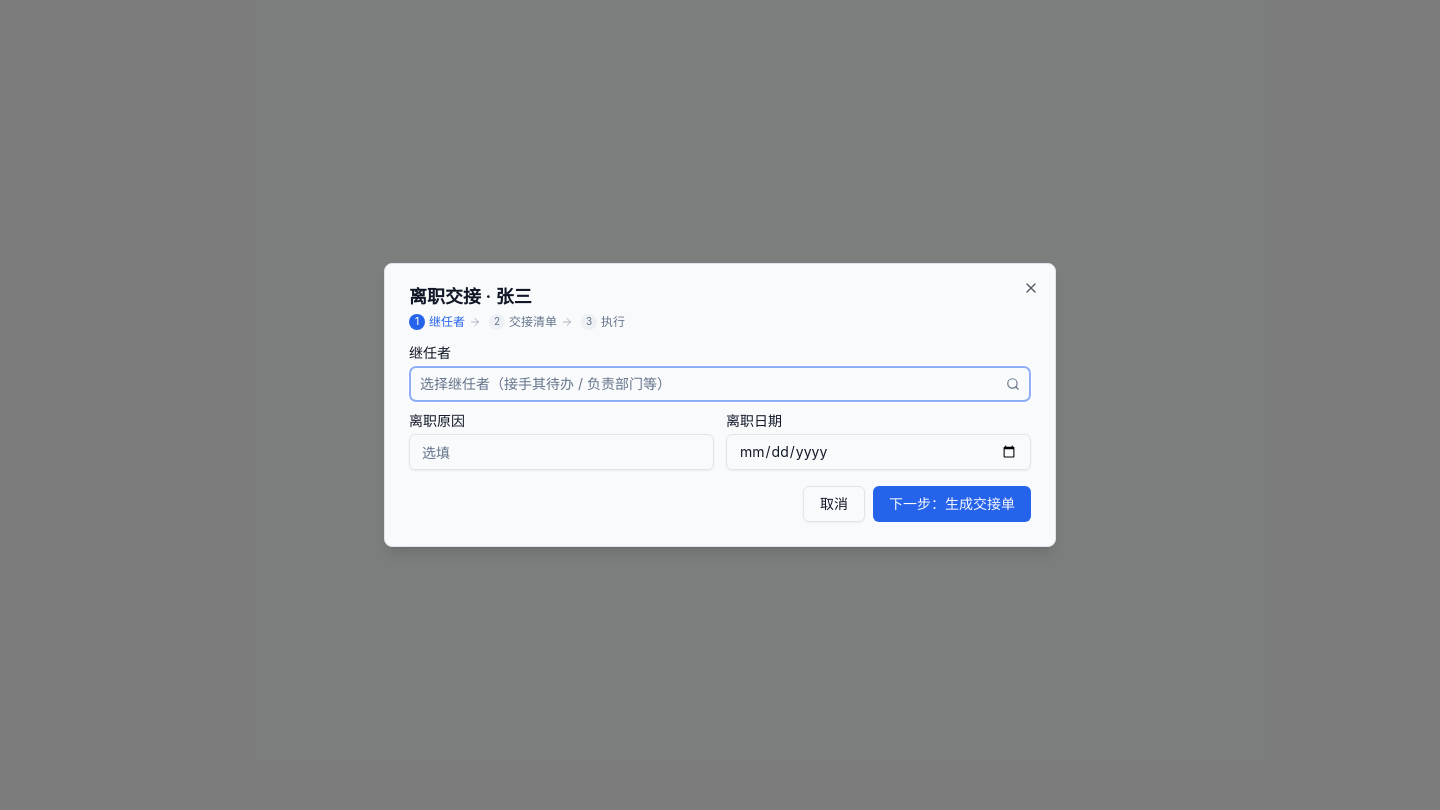
Scenario: ResignWizard（DP2） › offline → 生成交接单 → 演示清单（未知 itemType 兜底）→ 执行成功，不白屏
The width and height of the screenshot is (1440, 810).
Check: the heading "离职交接 · 张三" is shown, box [409, 286, 532, 307]
Note: 步1 → 生成交接单（继任者选填，离线直接放行）
Click the button "下一步：生成交接单" at [952, 504], box [873, 486, 1031, 522]
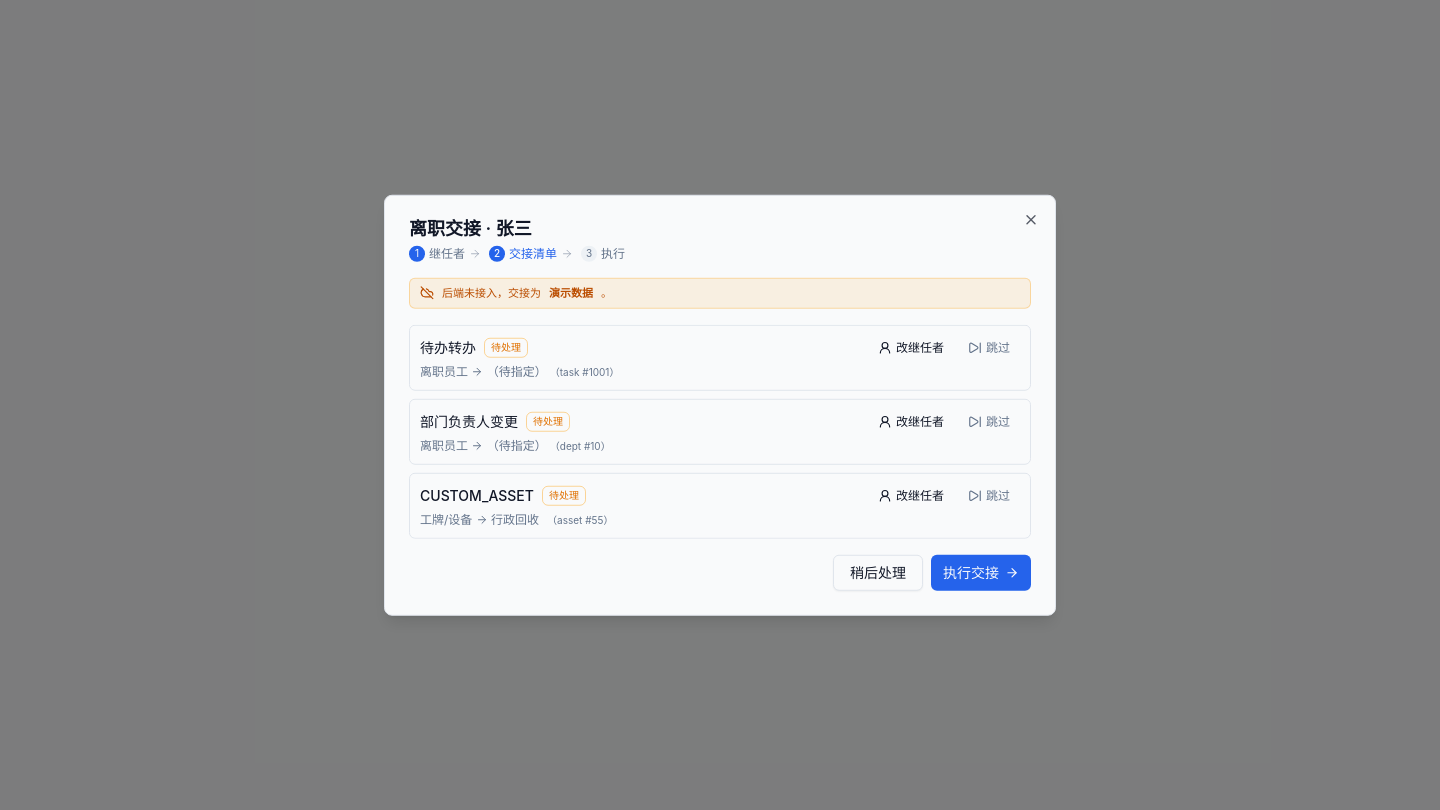
Check: the text "待办转办" is shown, box [420, 337, 476, 357]
Check: the text "部门负责人变更" is shown, box [420, 411, 518, 431]
Check: the text "CUSTOM_ASSET" is shown, box [420, 485, 534, 505]
Note: 步3：执行 → 全部 PENDING→DONE，交接单完成
Click the button "执行交接" at [981, 572], box [931, 554, 1031, 590]
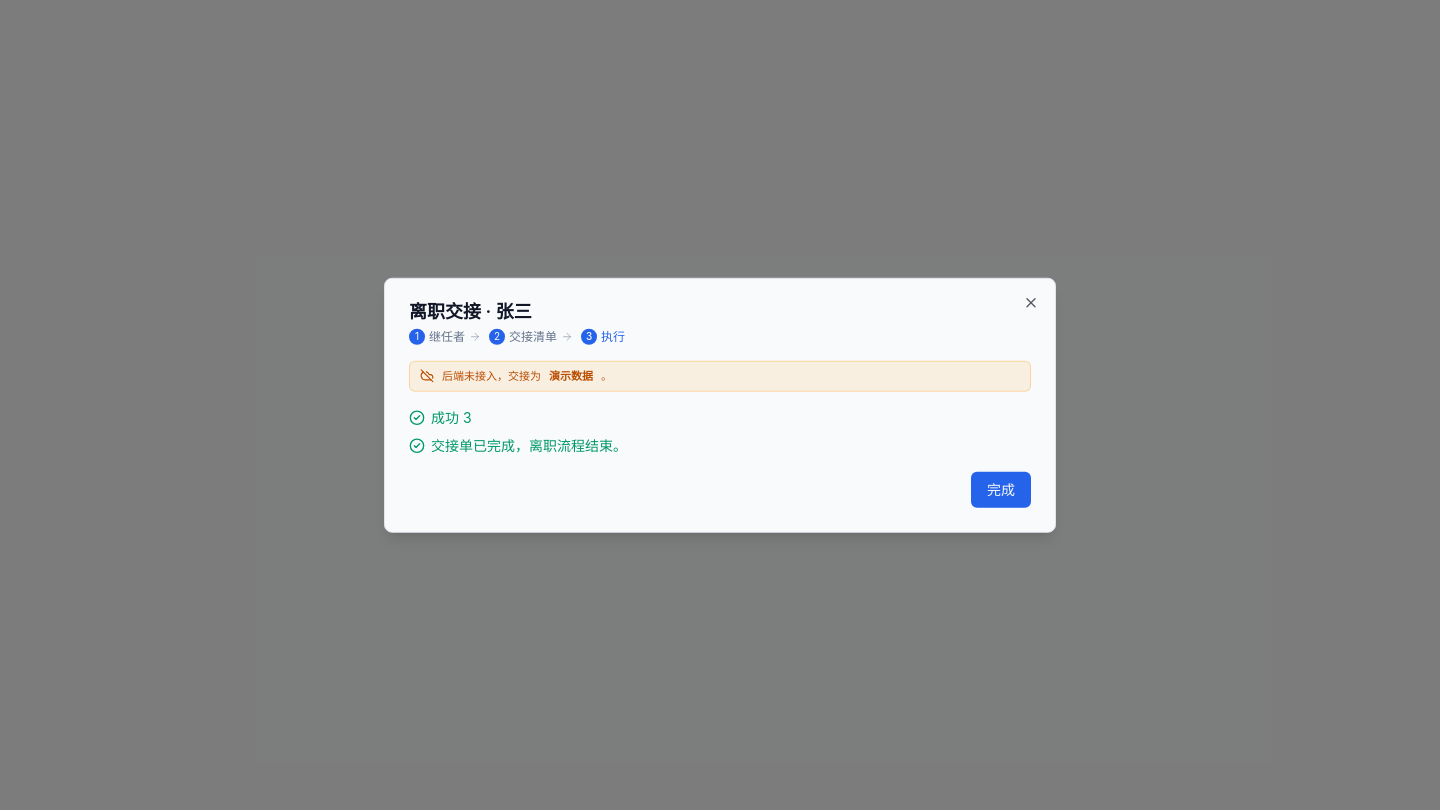
Check: the text "交接单已完成，离职流程结束。" is shown, box [409, 436, 627, 453]
